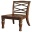chair: (1, 1, 32, 32)
